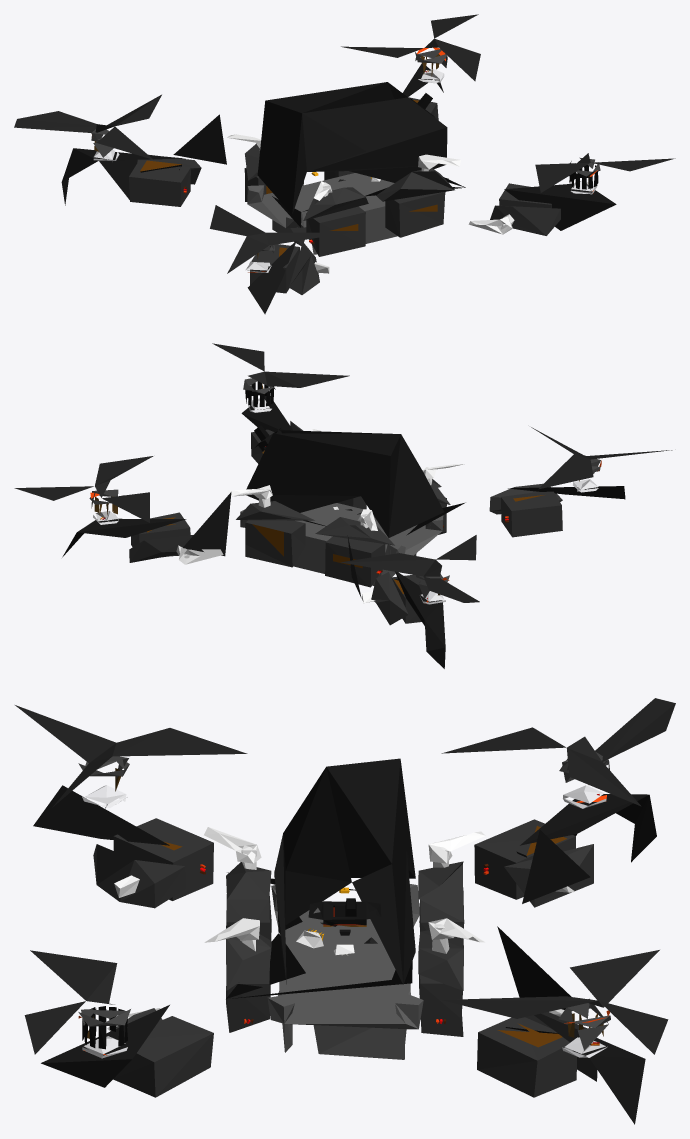
The model's file is model-lite.lod0.glb.
3 views of the same model, one above another, from view 1: azimuth 30°, elevation 25°; view 2: azimuth 150°, elevation 25°; view 3: azimuth 270°, elevation 25° (orthographic). The views are drawn at different scales.
Parts seen in each view (by area): view 1: root_base, SG90_-_Micro_Servo_9g_-_Tower_Pro.1_Pea_1, 40mm_1mm_prop_1, WYanHua-Motor_Micro_1104_Brushless_1-2S_4300KV_v1_1; view 2: root_base, SG90_-_Micro_Servo_9g_-_Tower_Pro.1_Pea_1, 40mm_1mm_prop_1, WYanHua-Motor_Micro_1104_Brushless_1-2S_4300KV_v1_1; view 3: root_base, SG90_-_Micro_Servo_9g_-_Tower_Pro.1_Pea_1, 40mm_1mm_prop_1, WYanHua-Motor_Micro_1104_Brushless_1-2S_4300KV_v1_1, SPDT_Mini_Slide_Switch_2.
Boxes of the visible parts, bbox=[...] form: root_base: bbox=[61, 63, 616, 314]; SG90_-_Micro_Servo_9g_-_Tower_Pro.1_Pea_1: bbox=[129, 97, 560, 294]; 40mm_1mm_prop_1: bbox=[14, 14, 675, 273]; WYanHua-Motor_Micro_1104_Brushless_1-2S_4300KV_v1_1: bbox=[91, 47, 600, 272]; root_base: bbox=[62, 396, 625, 668]; SG90_-_Micro_Servo_9g_-_Tower_Pro.1_Pea_1: bbox=[129, 421, 562, 625]; 40mm_1mm_prop_1: bbox=[14, 343, 672, 602]; WYanHua-Motor_Micro_1104_Brushless_1-2S_4300KV_v1_1: bbox=[89, 378, 601, 604]; root_base: bbox=[33, 758, 656, 1124]; SG90_-_Micro_Servo_9g_-_Tower_Pro.1_Pea_1: bbox=[93, 818, 597, 1097]; 40mm_1mm_prop_1: bbox=[15, 698, 675, 1054]; WYanHua-Motor_Micro_1104_Brushless_1-2S_4300KV_v1_1: bbox=[78, 752, 610, 1058]; SPDT_Mini_Slide_Switch_2: bbox=[308, 898, 381, 926].
Size of the model in its own units: 0.2229 by 0.0612 by 0.1747.
